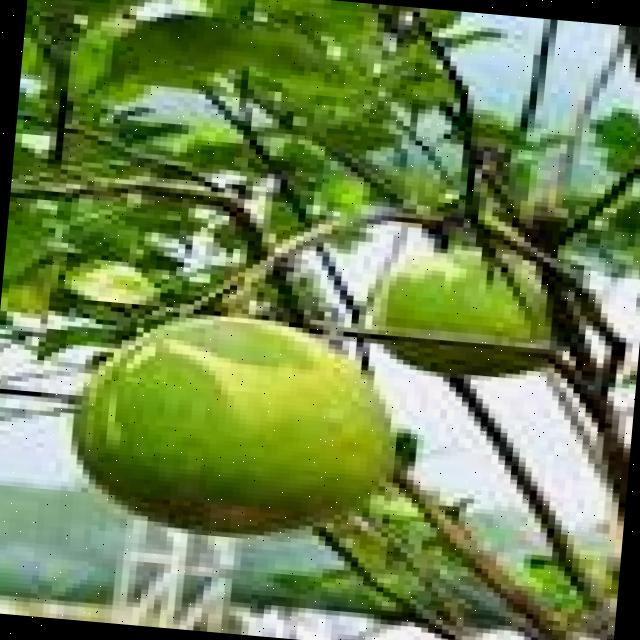Unripe: (66, 302, 406, 550)
